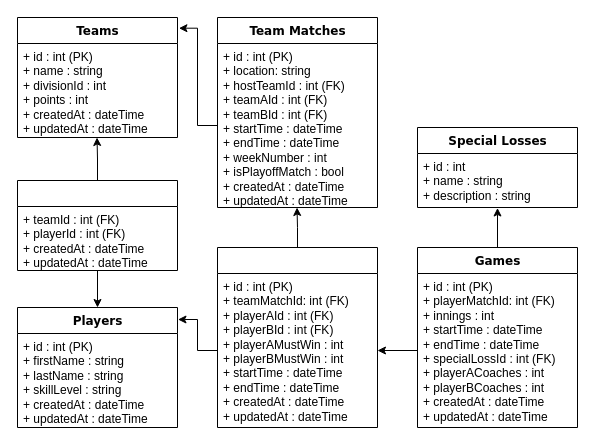
The diagram is 595 pixels wide and 448 high, and some of its shapes have lost their labels. Each missing label, with the box of its shape:
Player Matches: (216, 246, 378, 428)
Player Teams: (16, 180, 178, 270)
